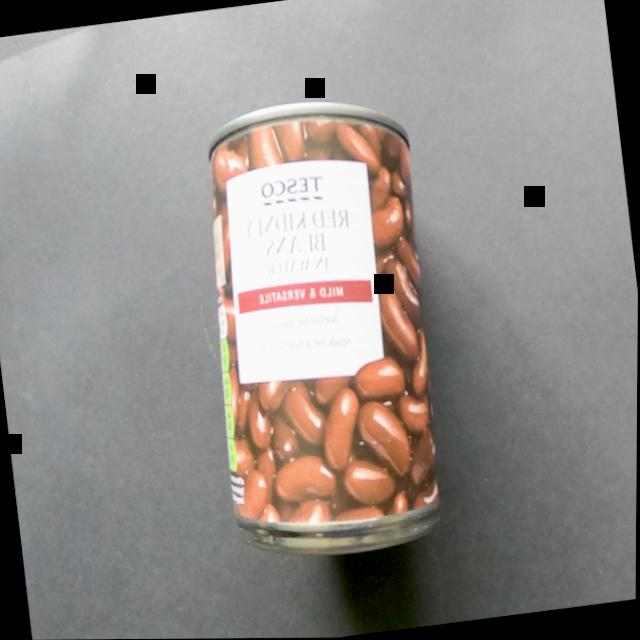Redbeans: (151, 57, 494, 609)
